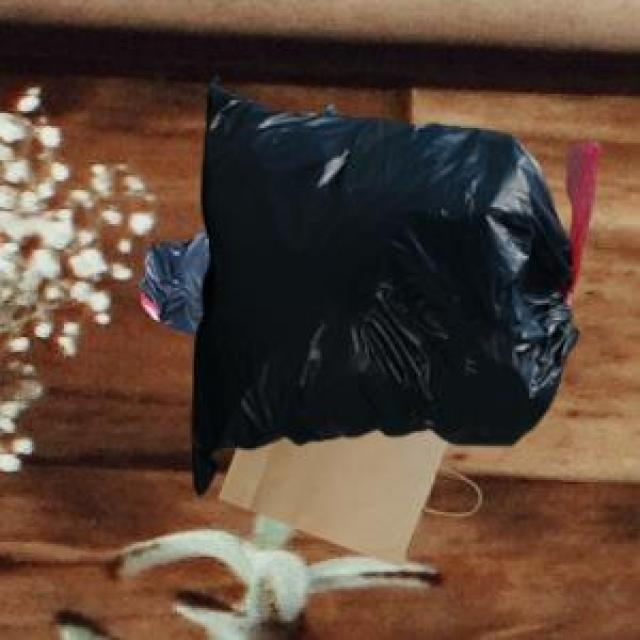miscellaneous trash: (188, 73, 597, 491), (137, 224, 207, 331)
paper: (216, 425, 444, 561)
